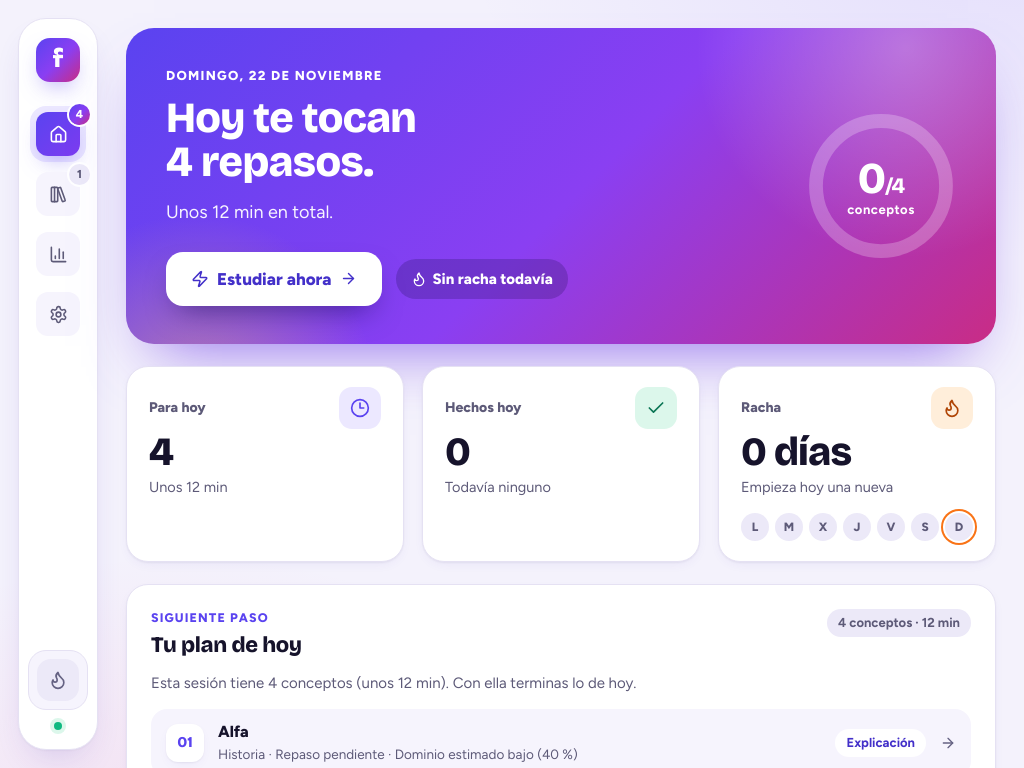
it: tipo test › corrige solo: acertar tras prever que se sabe cuenta como «Con seguridad» y la tarjeta siguiente vuelve al método normal
Click the button "Estudiar ahora".
click(274, 279)  # box [166,252,382,306]
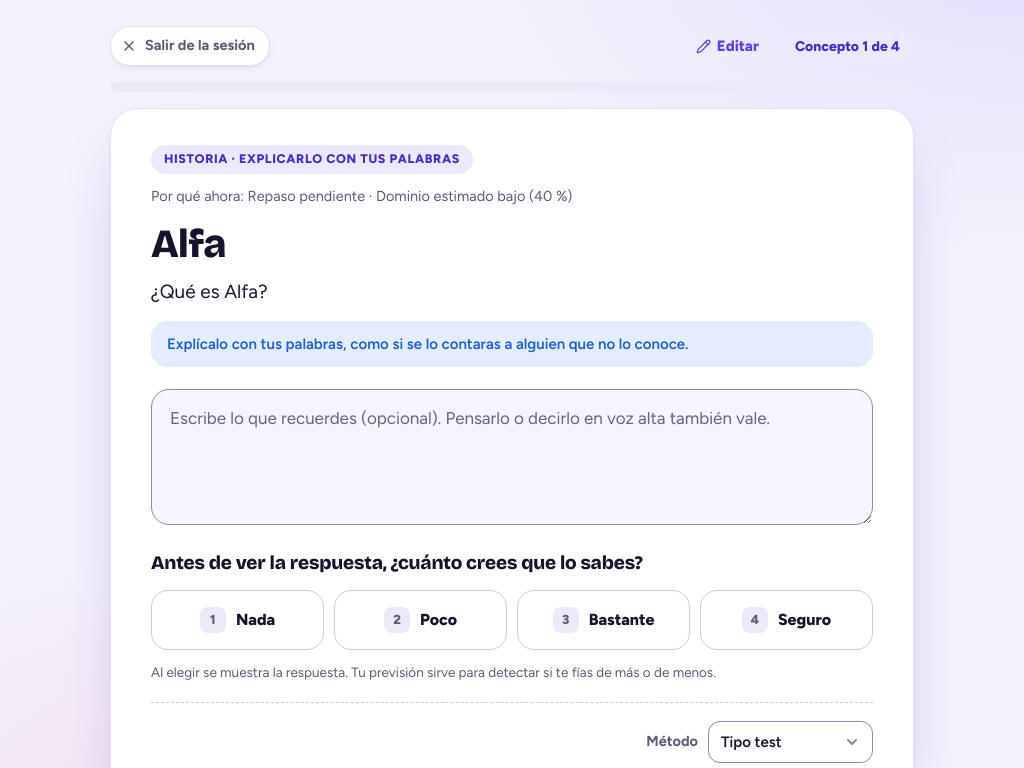
Select "Tipo test" in the dropdown labelled "Método" at coordinates (790, 742), box [708,721,873,763]
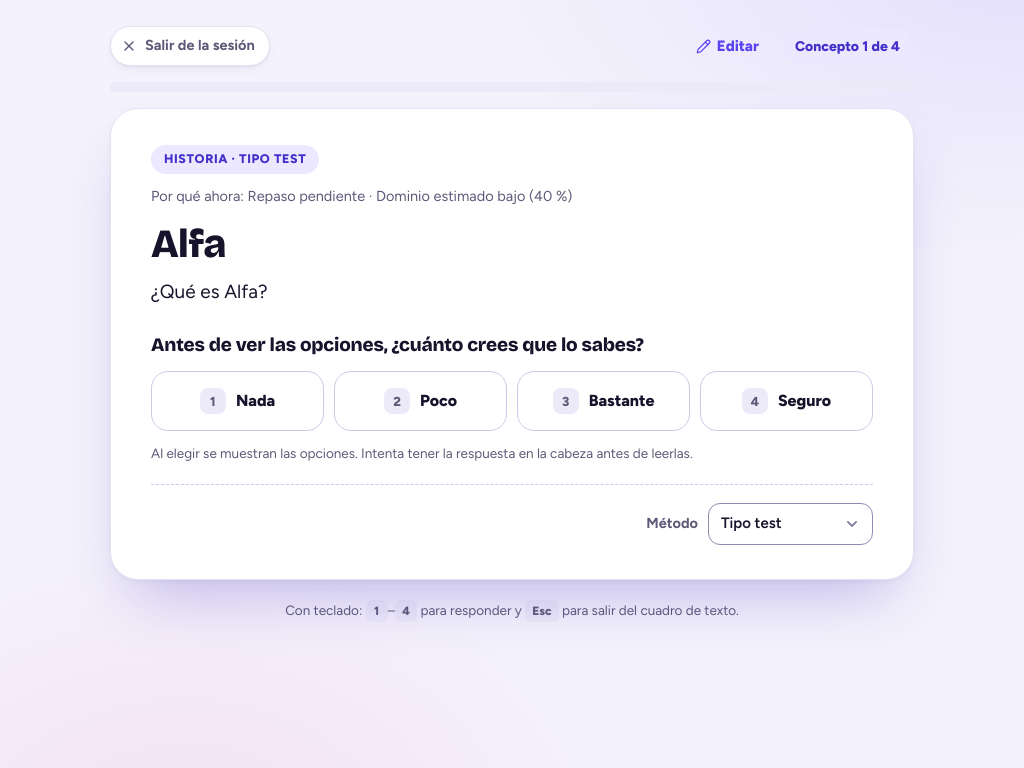
Result: the text box with class "answer-field" is gone
Click the button "3 Bastante".
click(604, 401)  # box [517,371,690,431]
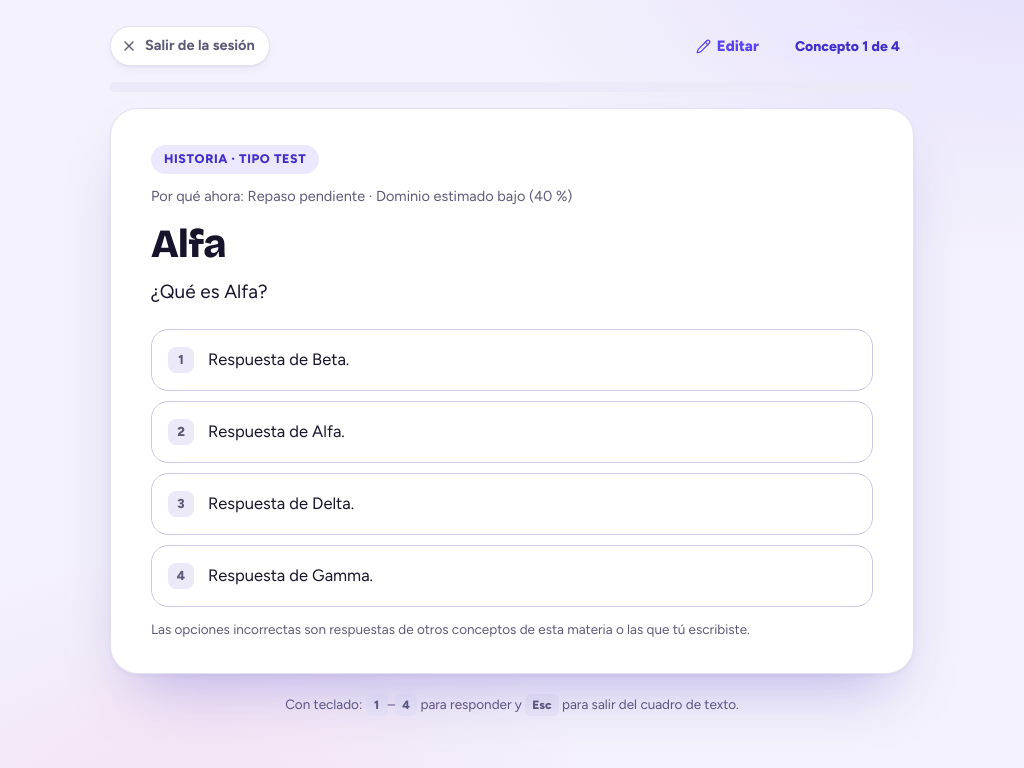
Click the button with class "choice-option" showing "2 Respuesta de Alfa.".
click(276, 431)  # box [151,401,873,463]
(page scrolled)
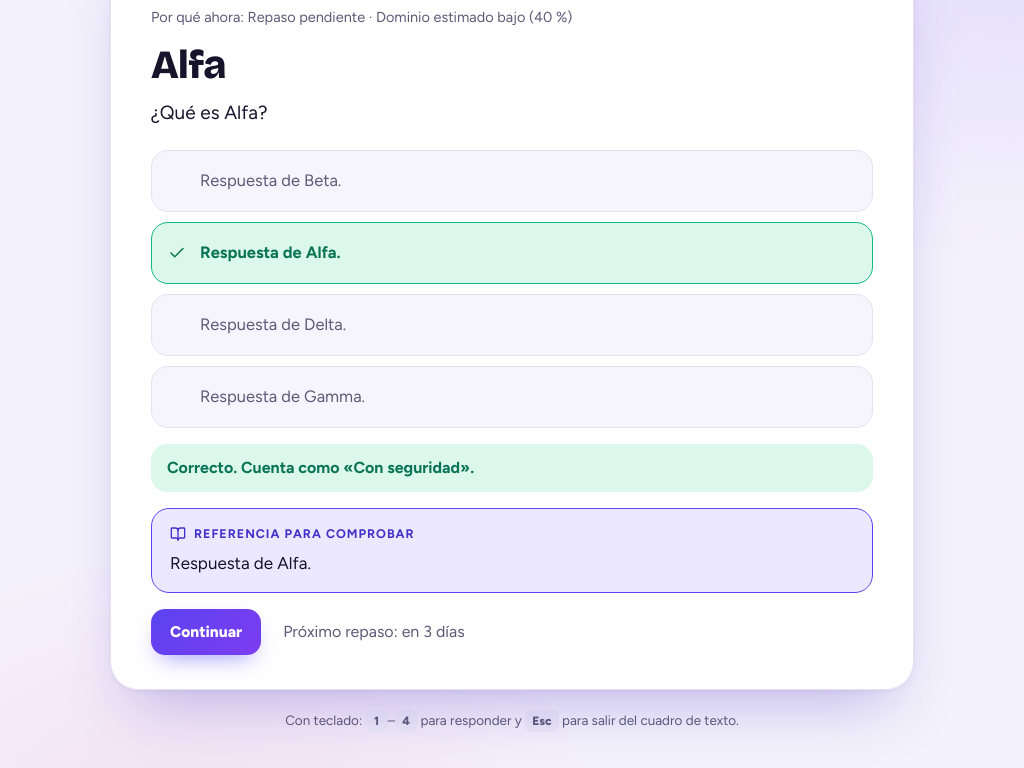
Result: the text "Correcto." is shown at [167,458,237,477]
Result: the text "Cuenta como «Con seguridad»." is shown at [241,458,474,477]
Click the button "Continuar".
click(206, 632)  # box [151,609,261,655]
(page scrolled)
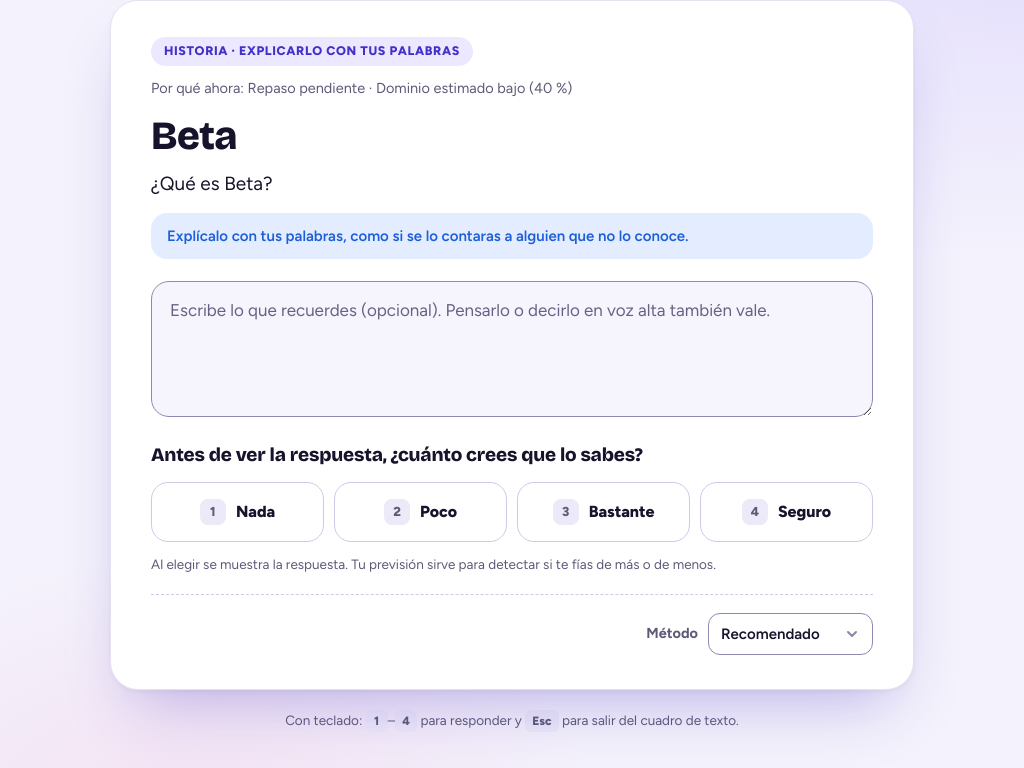
Result: the text box with class "answer-field" is shown at [151,281,873,417]
